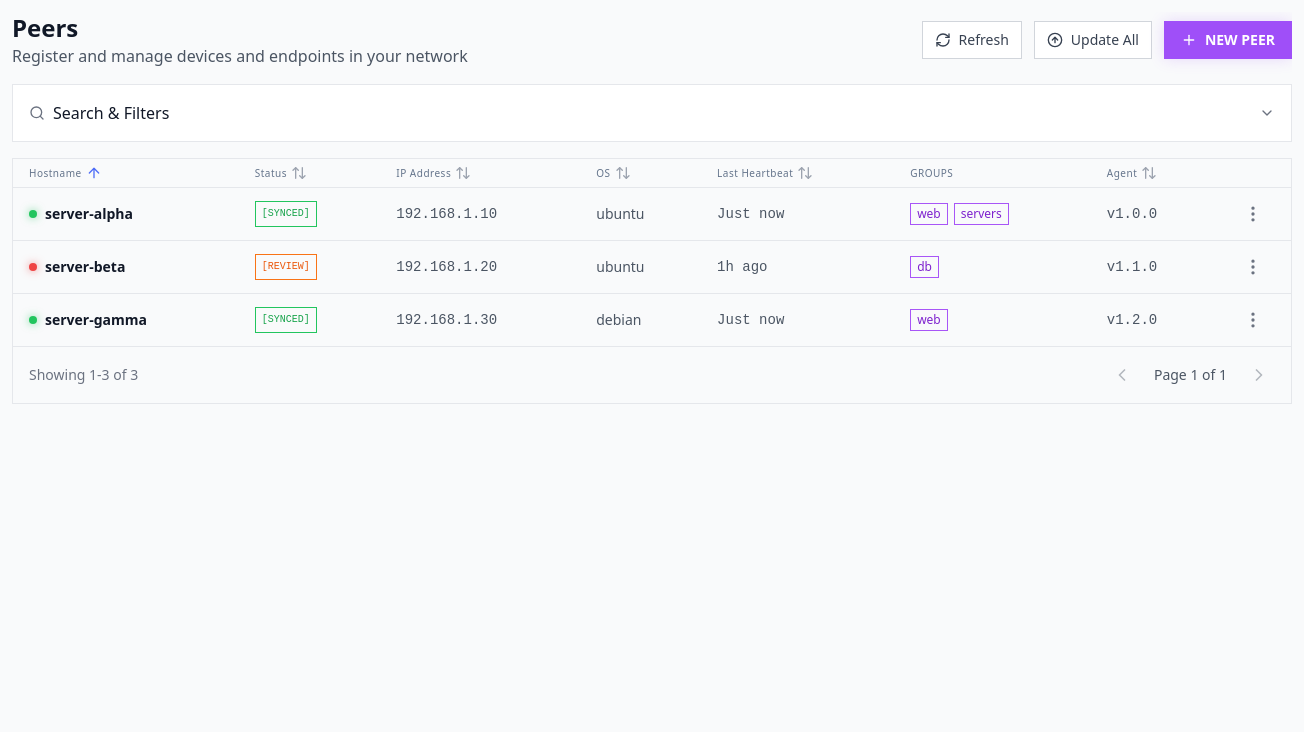
Peers Page › Search Functionality › search input filters peers
Expected: the table is shown, [13,188,1291,346]
Expected: the text "server-alpha" is shown, [45,204,133,224]
# Expand the Search & Filters panel first
Click the button "Search & Filters" at [111, 113], box [13,85,1291,141]
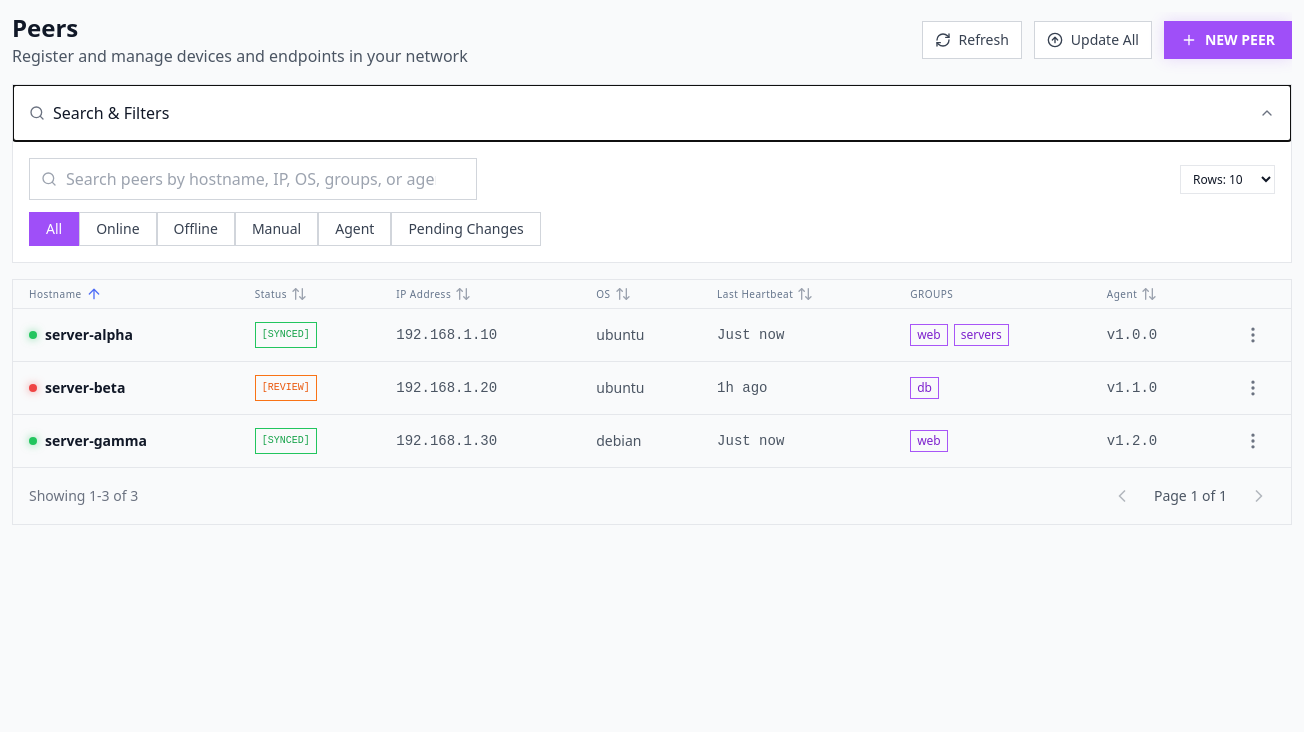
Now the field with placeholder "Search peers by hostname, IP, OS, groups, or agent..." is shown
Type "alpha" into the field with placeholder "Search peers by hostname, IP, OS, groups, or agent..." at [253, 179], box [29,158,477,200]
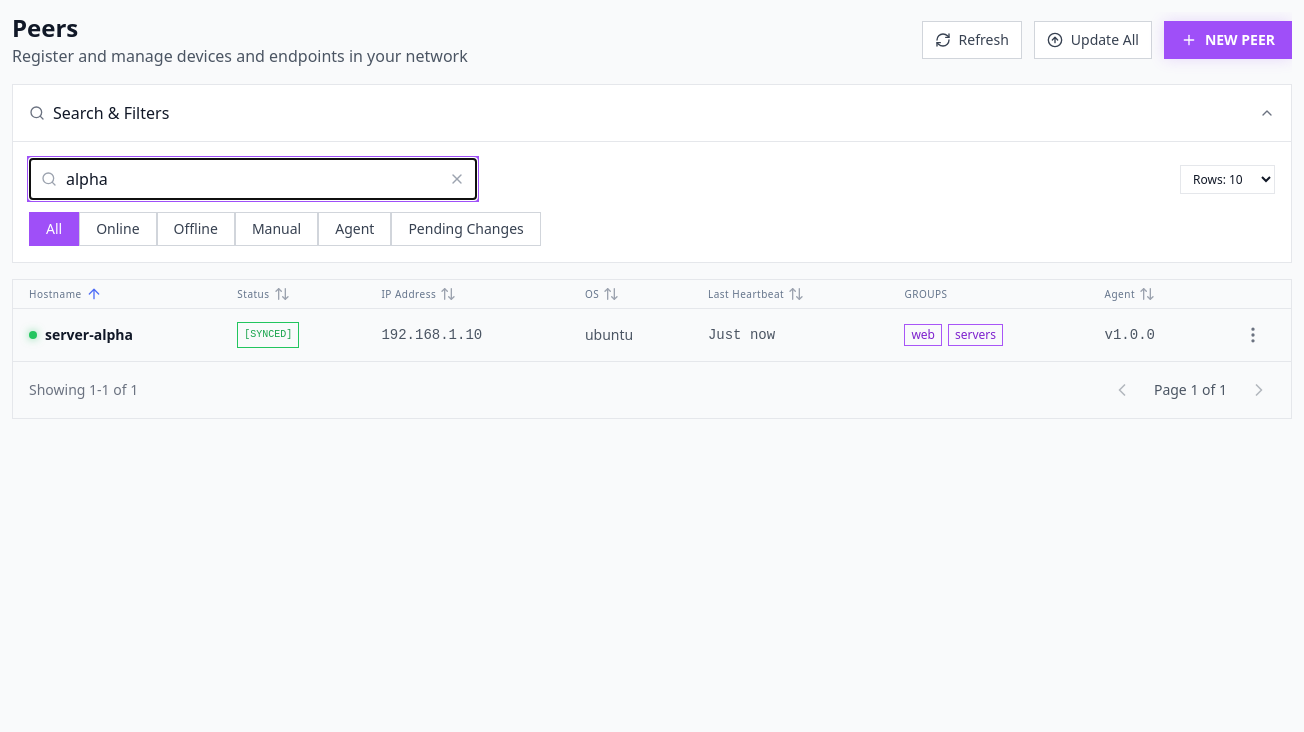
Expected: the text "server-alpha" is shown, [45,325,133,345]
Now the text "server-beta" is gone
